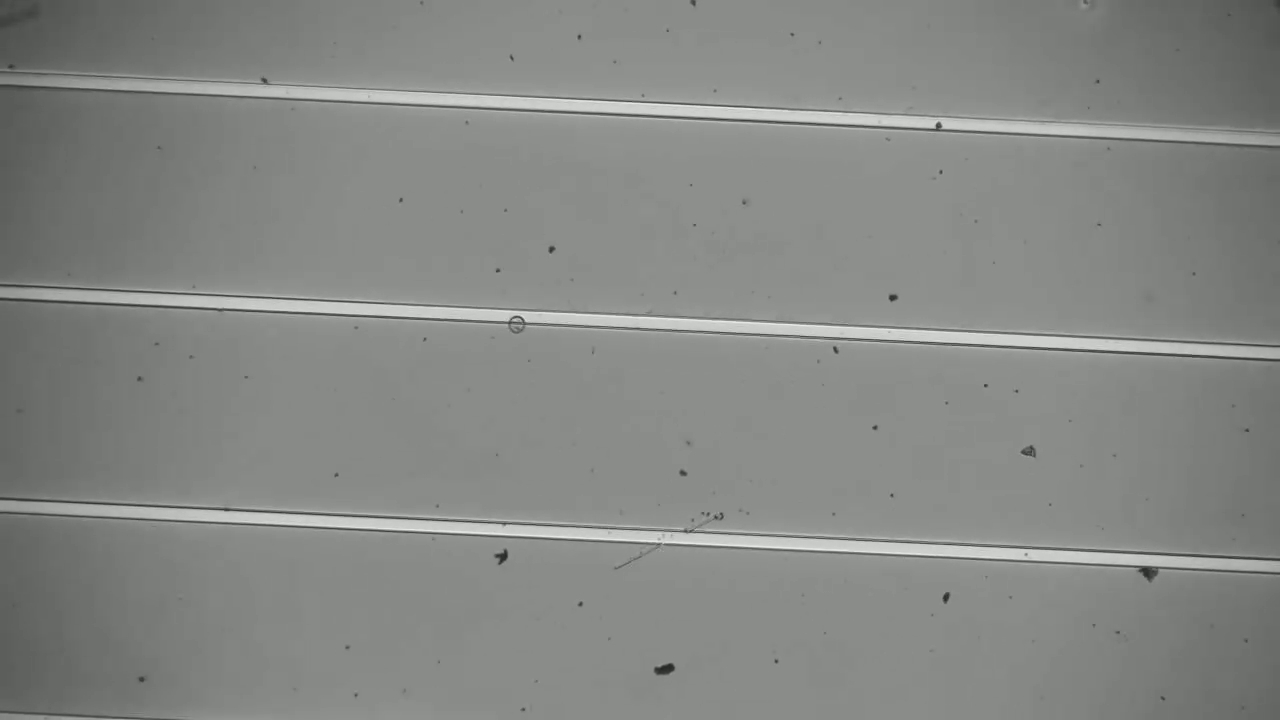stains_enbedded: (502, 308, 532, 341)
